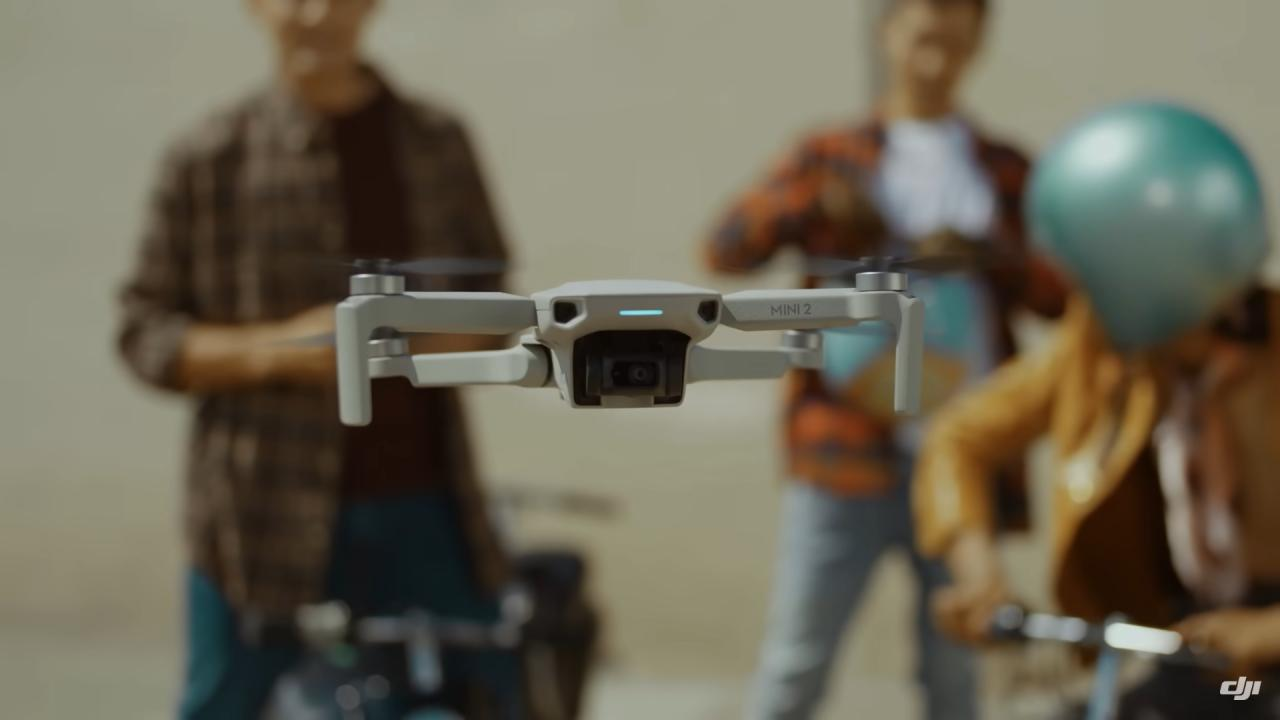Drone: (280, 226, 980, 446)
